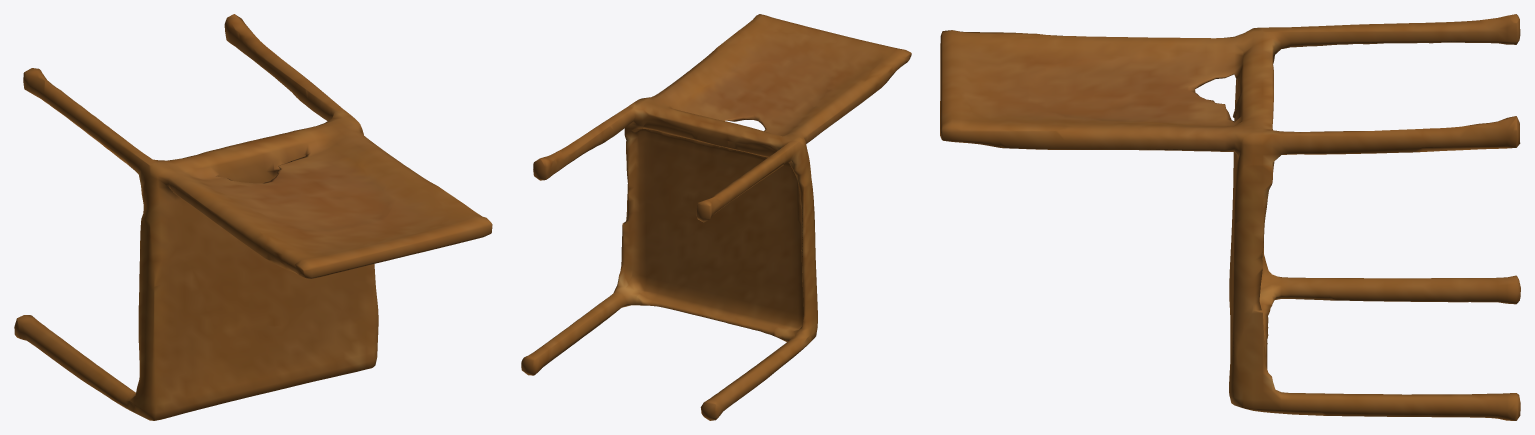
File: a supported chair.obj
3 renders of one model, left to right at view 1: azimuth 30°, elevation 25°; view 2: azimuth 150°, elevation 25°; view 3: azimuth 270°, elevation 25°, orthographic. The views are drawn at different scales.
Size of the model in its own units: 0.5253 by 0.5642 by 0.9999.
